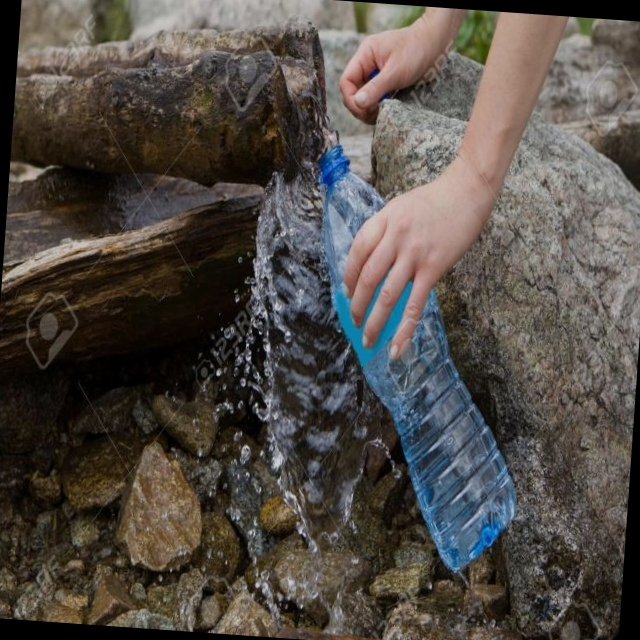Plastic-bottle: (302, 122, 535, 576)
